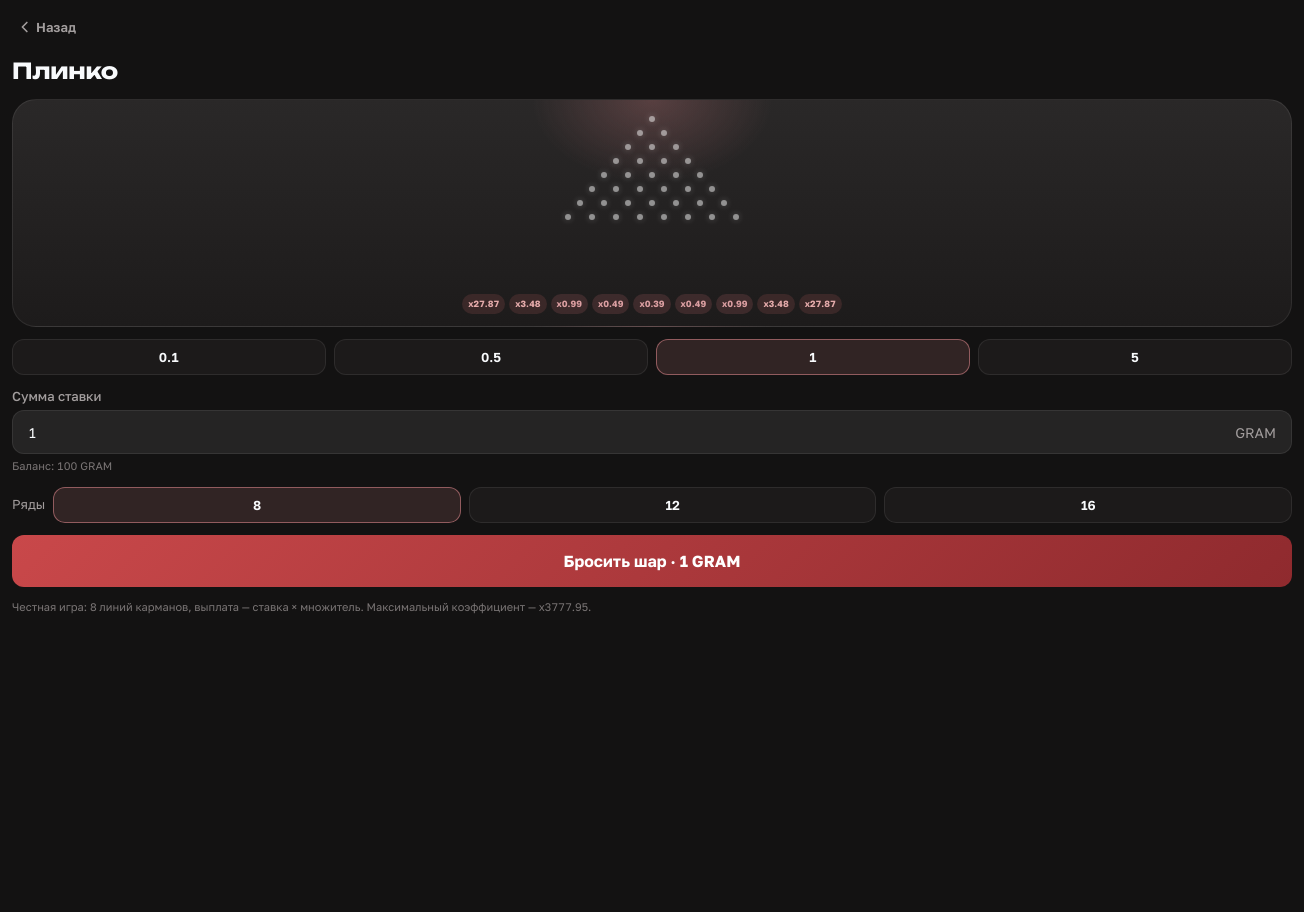
Test: PlinkoScreen (4.6: UI плинко) › проигрыш: центральный карман показывает честную дельту
The image size is (1304, 912).
What coordinates should you click on to do the following:
click the button "Бросить шар · 1 GRAM"
I would click on:
 (652, 560)
Its box is [12,534,1292,586].
Wait 600 ms
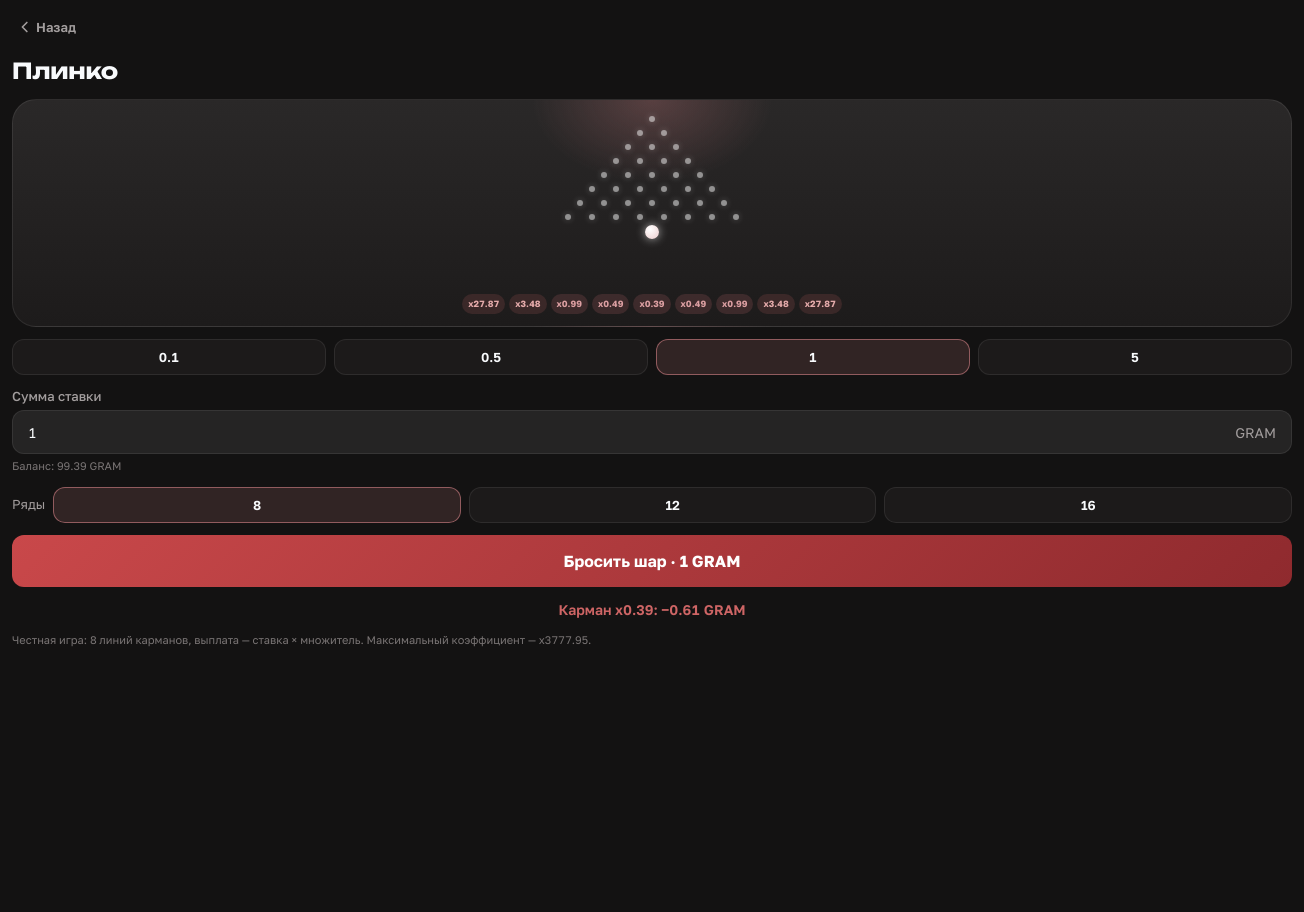
Result: the text "Карман x0.39: −0.61 GRAM" is shown at [558,600,746,618]
